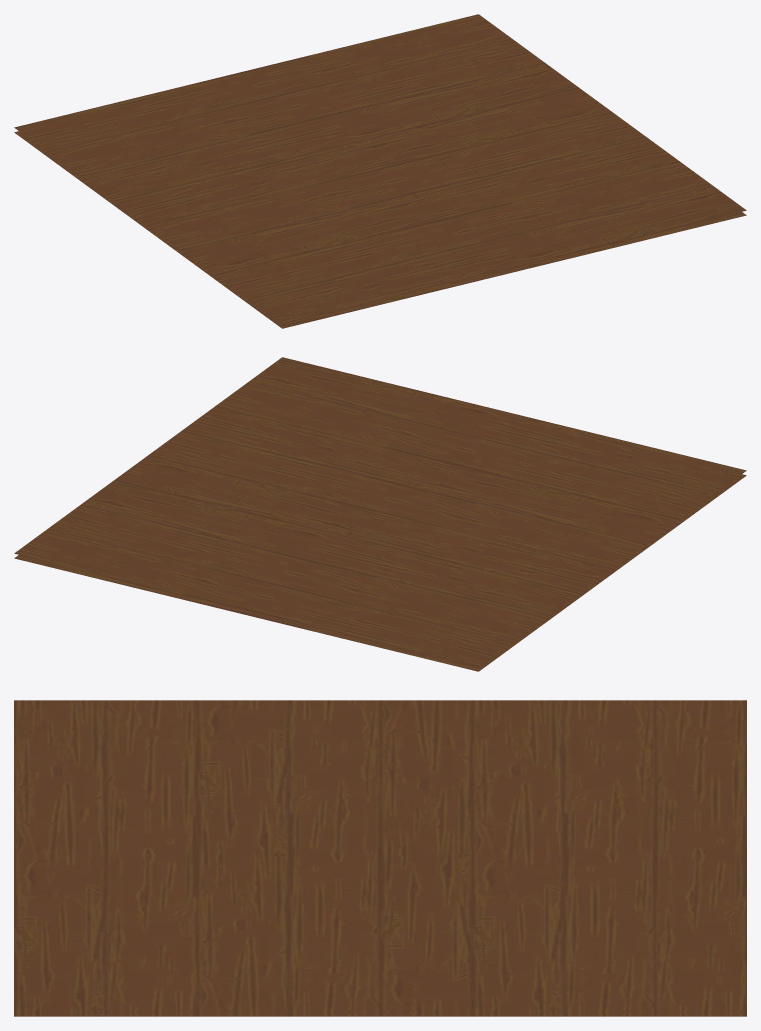
File: med-assoalho-escuro.gltf
3 views of the same model, one above another, from view 1: azimuth 30°, elevation 25°; view 2: azimuth 150°, elevation 25°; view 3: azimuth 270°, elevation 25° (orthographic). The views are drawn at different scales.
Visible parts, largest first — view 1: Floor_WoodDark; view 2: Floor_WoodDark; view 3: Floor_WoodDark.
Boxes of the visible parts, x1,y1,x2,y2 form: Floor_WoodDark: [14, 14, 746, 328]; Floor_WoodDark: [14, 357, 746, 671]; Floor_WoodDark: [14, 700, 746, 1016].
Size of the model in its own units: 1 by 0.01 by 1.
Materials: 1 (1 with a texture image).
